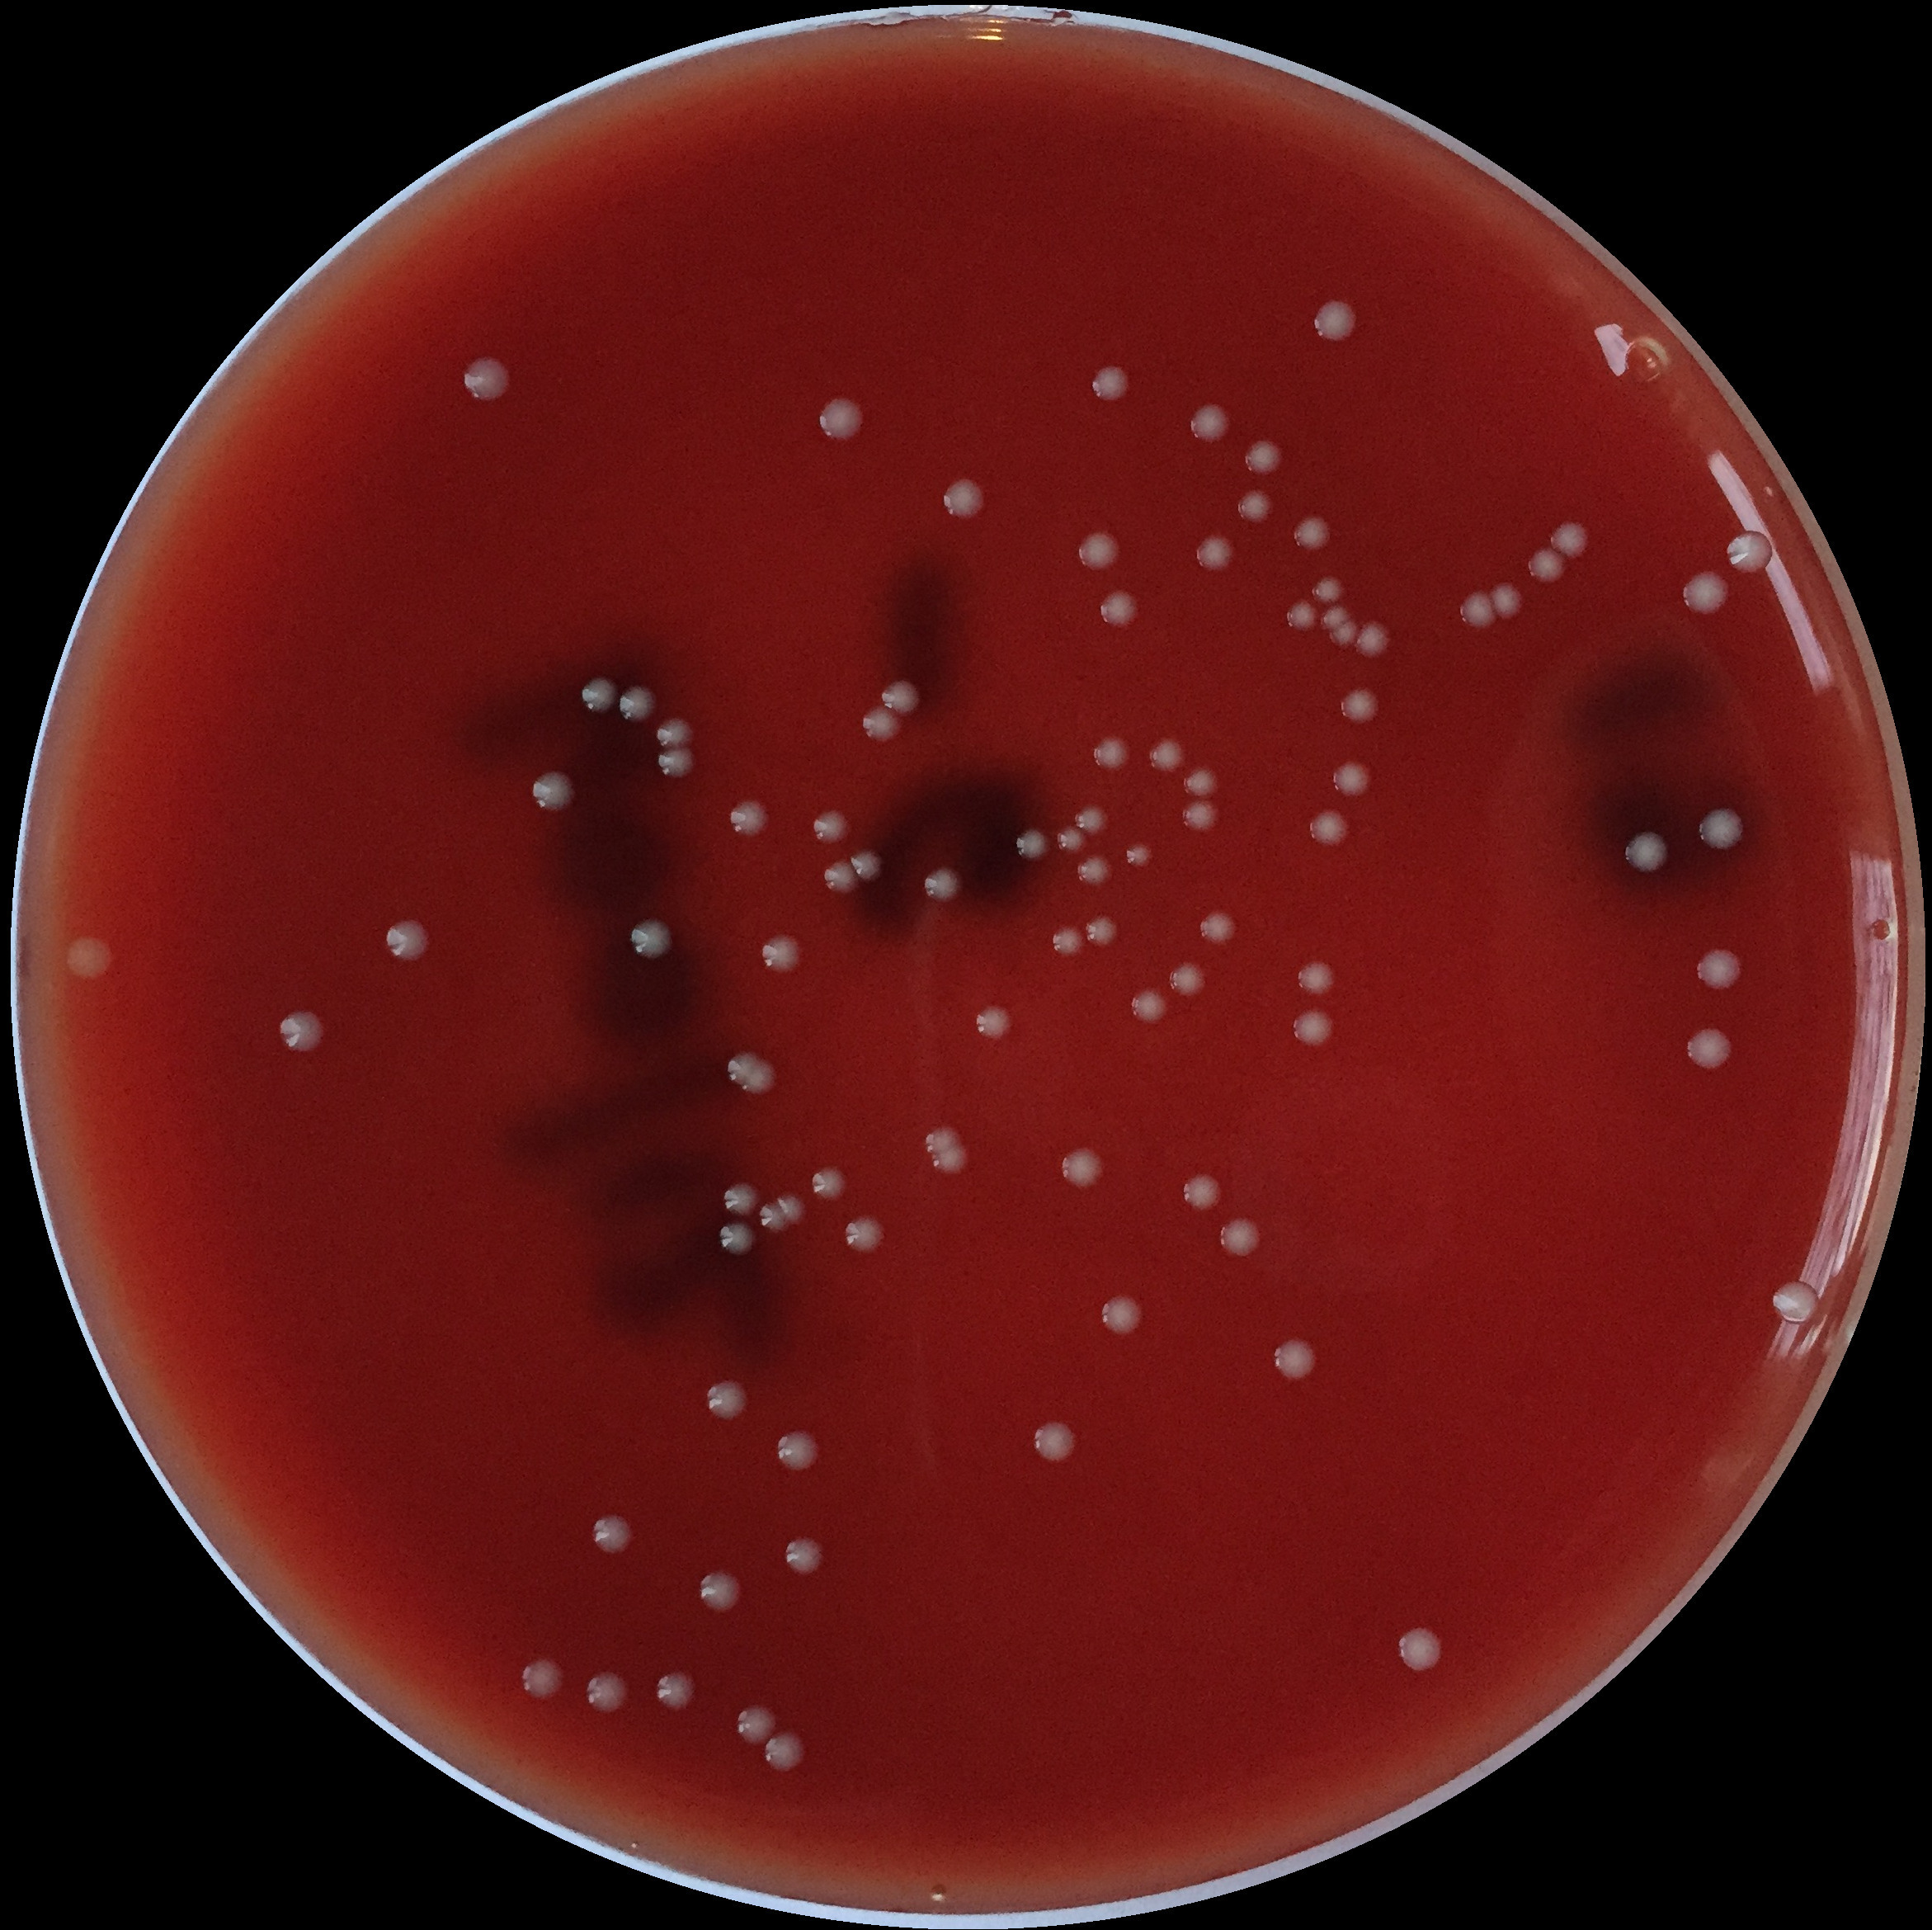sp21: (696, 1566, 751, 1619), (1679, 567, 1736, 615), (456, 355, 516, 399), (1395, 1626, 1449, 1674), (1723, 528, 1776, 576), (587, 1509, 636, 1559), (780, 1532, 829, 1582), (1695, 947, 1746, 995), (774, 1426, 825, 1474), (1094, 585, 1144, 633), (624, 914, 673, 961), (732, 1702, 780, 1751), (815, 396, 866, 442), (1693, 806, 1745, 852), (1683, 1027, 1736, 1071), (1029, 1423, 1082, 1467), (1271, 1334, 1319, 1382), (64, 933, 113, 979), (1059, 1145, 1108, 1191), (380, 919, 433, 961), (583, 1670, 629, 1718), (276, 1009, 325, 1053), (1336, 682, 1384, 726), (758, 931, 806, 976), (1101, 1294, 1145, 1341), (1769, 1278, 1817, 1322), (1621, 832, 1672, 873), (1190, 401, 1236, 445), (1220, 1216, 1266, 1260), (1232, 484, 1280, 527), (652, 1670, 700, 1713), (760, 1729, 808, 1771), (1190, 530, 1239, 571), (520, 1658, 569, 1698), (940, 479, 986, 521), (1289, 1007, 1336, 1048), (705, 1380, 753, 1421), (1312, 297, 1356, 339), (1487, 578, 1529, 622), (1181, 1170, 1225, 1212), (1076, 530, 1122, 571), (529, 771, 576, 809), (857, 705, 907, 742), (1352, 617, 1395, 659), (728, 797, 771, 840), (841, 1216, 887, 1255), (1525, 544, 1566, 587), (810, 808, 852, 848), (615, 684, 658, 725), (1290, 514, 1335, 553), (1089, 733, 1133, 772), (1327, 762, 1373, 799), (1306, 809, 1352, 847), (879, 679, 924, 716), (969, 1002, 1016, 1037), (1089, 362, 1130, 403), (721, 1181, 762, 1221), (1243, 437, 1285, 475), (716, 1220, 758, 1258), (1455, 592, 1499, 629), (1145, 737, 1188, 774), (1128, 988, 1170, 1025), (654, 718, 696, 755), (1179, 801, 1227, 832), (1167, 961, 1207, 999), (1296, 960, 1338, 995), (1179, 765, 1221, 801), (810, 1166, 852, 1202), (921, 868, 965, 901), (1075, 850, 1114, 887), (818, 859, 857, 896), (1198, 910, 1239, 946), (1008, 827, 1050, 861), (774, 1191, 811, 1228), (578, 679, 619, 712), (1548, 520, 1586, 555), (1310, 574, 1349, 608), (1082, 912, 1121, 946), (1048, 928, 1091, 958), (656, 746, 693, 779), (742, 1062, 780, 1096), (932, 1145, 970, 1177), (848, 848, 884, 882), (723, 1053, 757, 1089), (1320, 603, 1358, 634), (1073, 802, 1110, 834), (923, 1124, 960, 1156), (1285, 597, 1320, 629), (758, 1200, 790, 1235), (1329, 617, 1361, 647), (1122, 841, 1154, 871), (1055, 825, 1087, 854)
